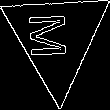M_E: (33, 14, 81, 63)
